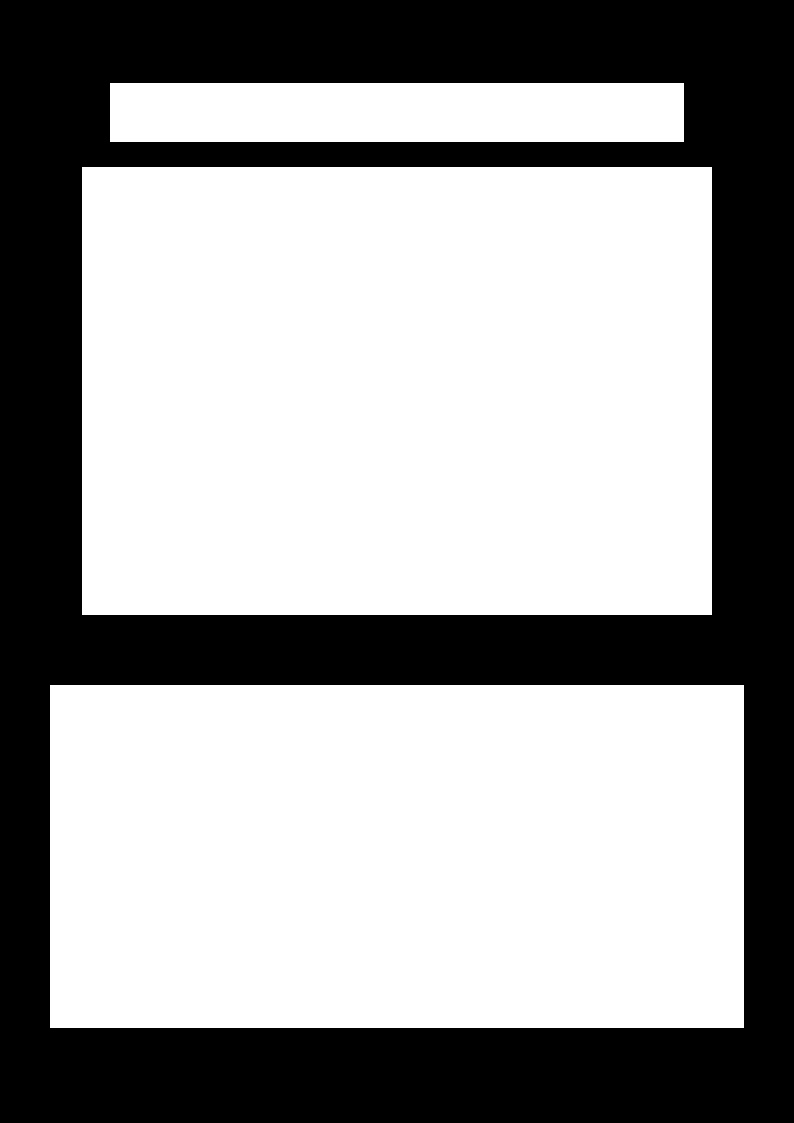table: (82, 167, 711, 614), (50, 685, 743, 1027), (110, 83, 683, 141)
